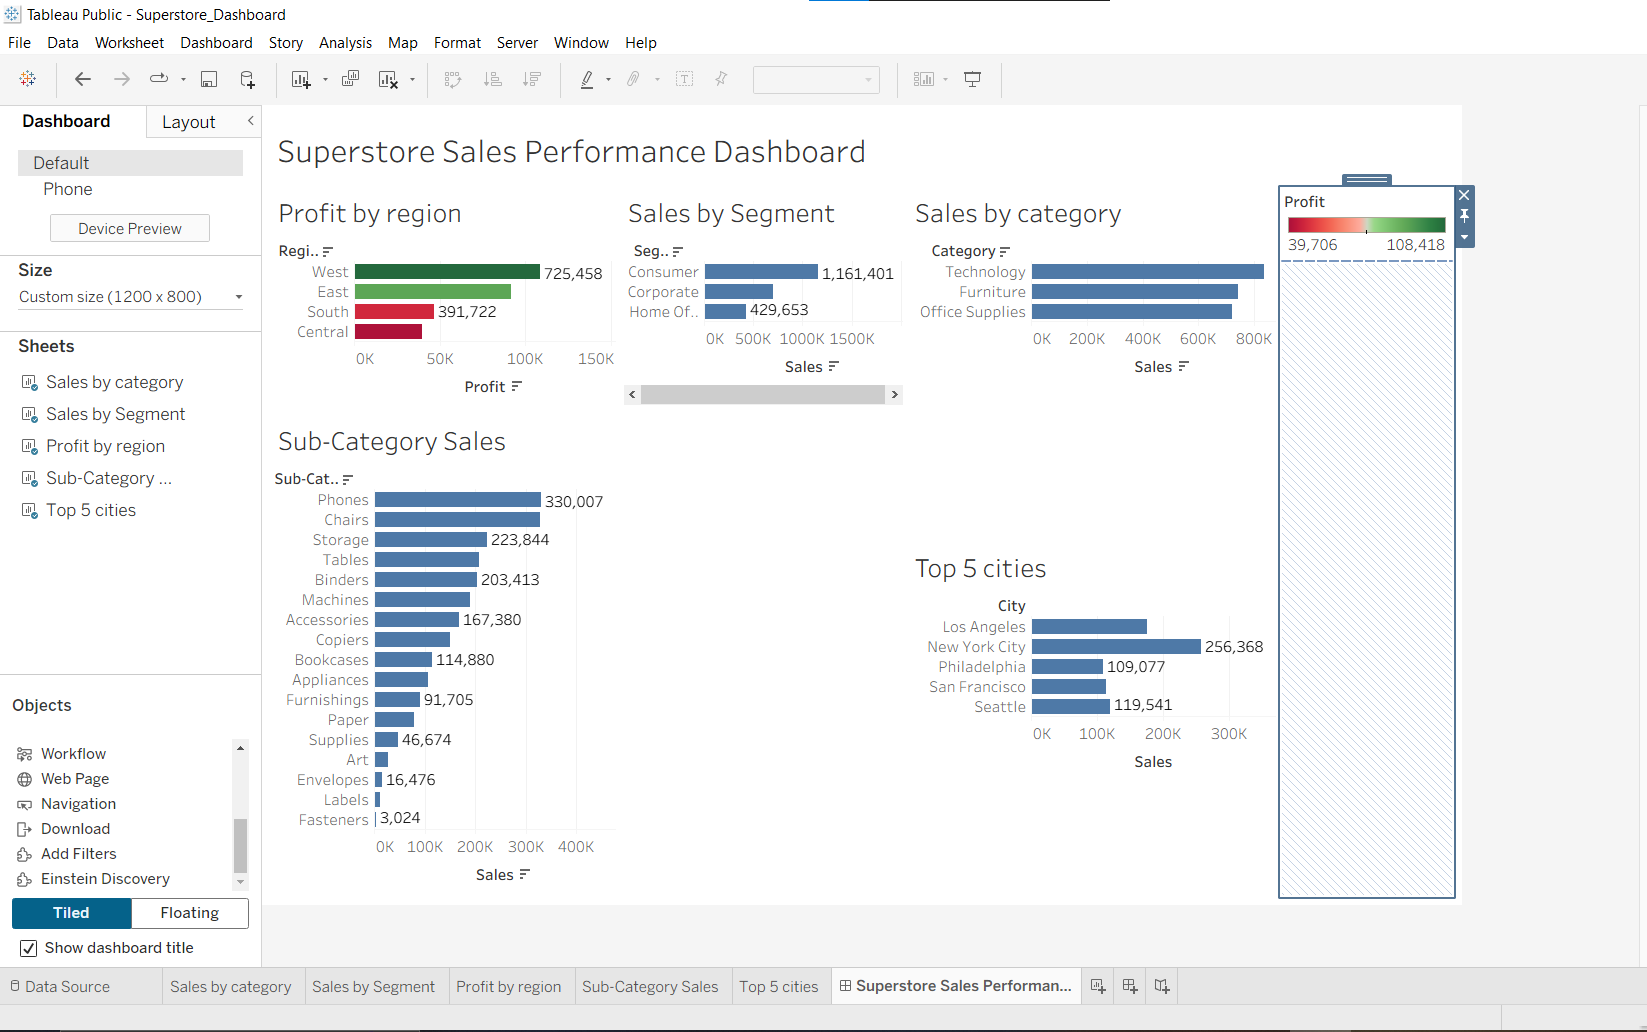

Layout of this report page (visuals, bound fields, positions):
{"tool":"tableau","page":{"name":"Superstore Sales Performance Dashboard","canvas":[1200,800],"ordinal":0},"visuals":[{"type":"title","box":[8,8,1184,74]},{"type":"worksheet","title":"Profit by region","mark":"Automatic","rows":["Region"],"cols":["Profit"],"box":[8,82,350,228]},{"type":"worksheet","title":"Sales by Segment","mark":"Automatic","rows":["Segment"],"cols":["Sales"],"box":[358,82,287,710]},{"type":"worksheet","title":"Sales by category","mark":"Automatic","rows":["Category"],"cols":["Sales"],"box":[645,82,373,355]},{"type":"legend","title":"Profit by region","param":"[federated.1e40qip1ysxfdu1gtt6741m496ca].[sum:Profit:qk]","box":[1018,82,174,73]},{"type":"worksheet","title":"Sub-Category Sales","mark":"Automatic","rows":["Sub-Category"],"cols":["Sales"],"box":[8,310,350,482]},{"type":"worksheet","title":"Top 5 cities","mark":"Automatic","rows":["City"],"cols":["Sales"],"box":[645,437,373,355]}]}

Visuals, with their boxes on the page's 1200x800 design canvas (x1, y1, x2, y2). These are canvas units, not pixel positions in the 1647x1032 screenshot, which may show the page scaled, cropped or inside an application window:
title: x1=8 y1=8 x2=1192 y2=82
"Profit by region" worksheet: x1=8 y1=82 x2=358 y2=310
"Sales by Segment" worksheet: x1=358 y1=82 x2=645 y2=792
"Sales by category" worksheet: x1=645 y1=82 x2=1018 y2=437
"Profit by region" legend: x1=1018 y1=82 x2=1192 y2=155
"Sub-Category Sales" worksheet: x1=8 y1=310 x2=358 y2=792
"Top 5 cities" worksheet: x1=645 y1=437 x2=1018 y2=792
